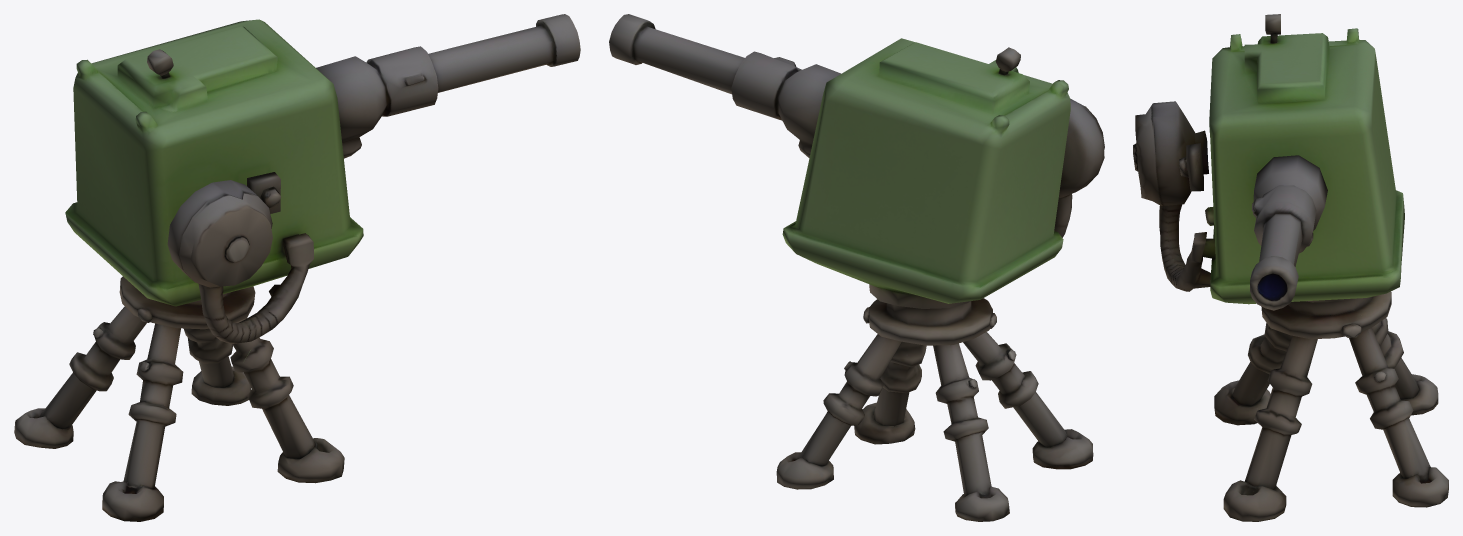
Rendered from sentinela.glb.
The picture shows the model from 3 angles, left to right: view 1: azimuth 30°, elevation 25°; view 2: azimuth 150°, elevation 25°; view 3: azimuth 270°, elevation 25°; orthographic projection. The views are drawn at different scales.
Visible parts, largest first — view 1: tripo_node_648b89b0-1225-4bb3-9382-024729fc9cd3; view 2: tripo_node_648b89b0-1225-4bb3-9382-024729fc9cd3; view 3: tripo_node_648b89b0-1225-4bb3-9382-024729fc9cd3.
Boxes of the visible parts, box(x1,y1,x2,y2) form: tripo_node_648b89b0-1225-4bb3-9382-024729fc9cd3: box(14, 14, 580, 521); tripo_node_648b89b0-1225-4bb3-9382-024729fc9cd3: box(609, 14, 1104, 521); tripo_node_648b89b0-1225-4bb3-9382-024729fc9cd3: box(1133, 14, 1448, 521).
Size of the model in its own units: 0.998 by 0.8848 by 0.5918.
1 material, 1 textured.
